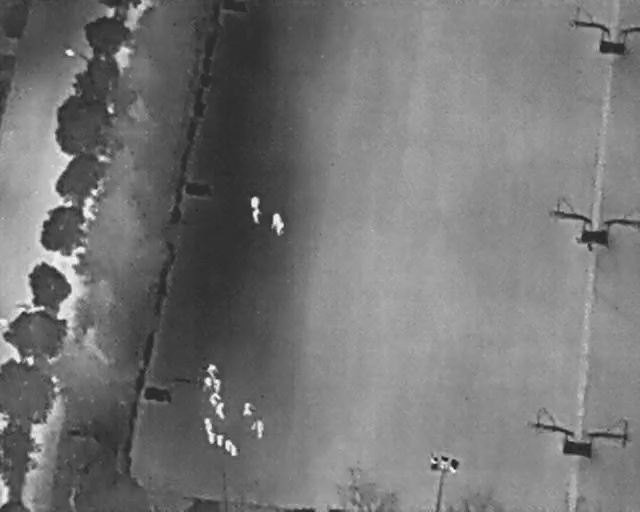Person: (272, 213, 284, 237), (251, 419, 264, 440), (214, 401, 226, 420), (209, 392, 223, 407), (242, 401, 254, 417), (201, 376, 213, 391), (206, 363, 218, 377), (202, 418, 213, 433), (251, 208, 261, 224), (212, 378, 222, 394), (251, 195, 261, 209), (223, 440, 233, 454), (216, 432, 224, 449), (207, 431, 216, 446), (229, 445, 238, 458)
